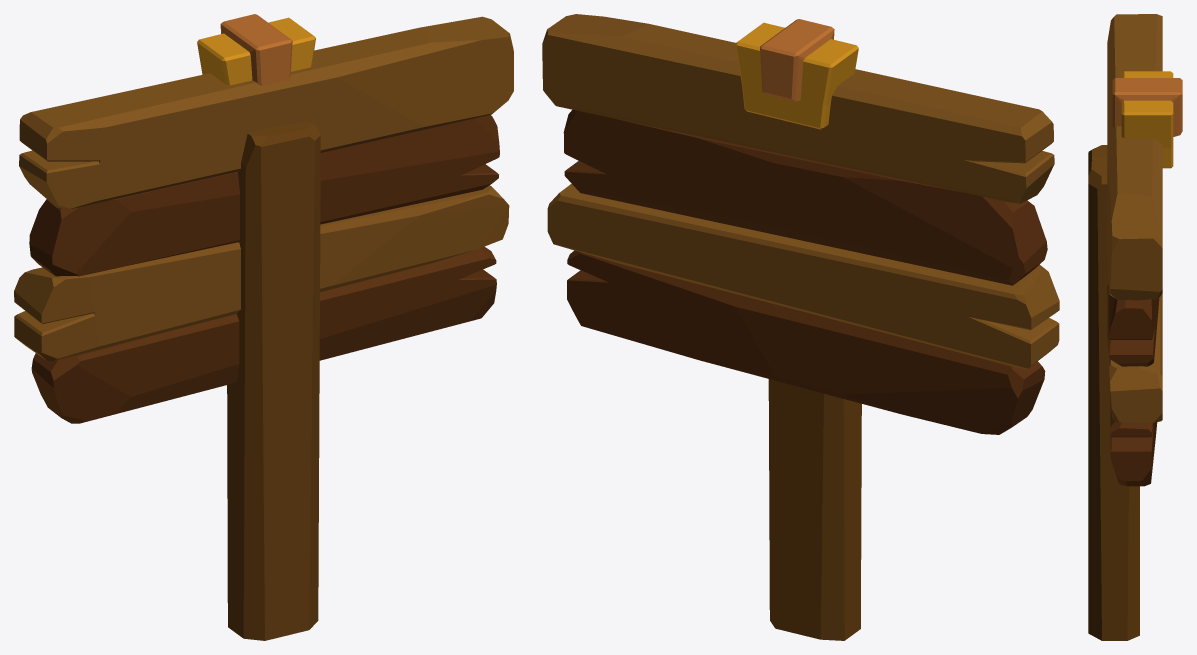
The model's file is SignPost06.fbx.
3 views of the same model, side by side, from view 1: azimuth 30°, elevation 25°; view 2: azimuth 150°, elevation 25°; view 3: azimuth 270°, elevation 25° (orthographic). The views are drawn at different scales.
Visible parts, largest first — view 1: LOD0; view 2: LOD0; view 3: LOD0.
Part boxes in pixels (x1=…): LOD0: x1=14, y1=14, x2=513, y2=640; LOD0: x1=542, y1=14, x2=1059, y2=640; LOD0: x1=1088, y1=14, x2=1182, y2=640.
Size of what is drawn, in the model's own units: 149 by 27.69 by 175.
